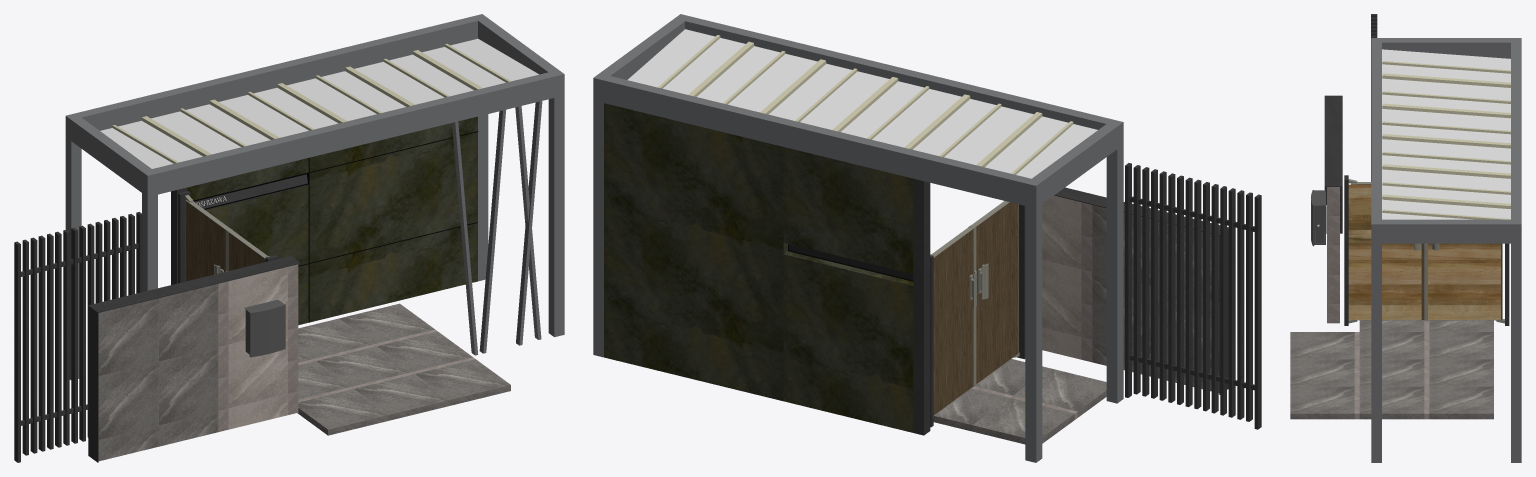
The model's file is exg2022_C1_exteriorseenpp-2_nocolor.fbx.
The picture shows the model from 3 angles, left to right: view 1: azimuth 30°, elevation 25°; view 2: azimuth 150°, elevation 25°; view 3: azimuth 270°, elevation 25°; orthographic projection. The views are drawn at different scales.
Parts seen in each view (by area): view 1: exg2022_C1_exteriorseenpp-2; view 2: exg2022_C1_exteriorseenpp-2; view 3: exg2022_C1_exteriorseenpp-2.
Boxes of the visible parts, x1,y1,x2,y2 form: exg2022_C1_exteriorseenpp-2: (14, 14, 564, 462); exg2022_C1_exteriorseenpp-2: (593, 14, 1261, 462); exg2022_C1_exteriorseenpp-2: (1290, 14, 1521, 462).
Bounding box in the file's own units: 538 × 245 × 215.
22 materials, 16 textured.
